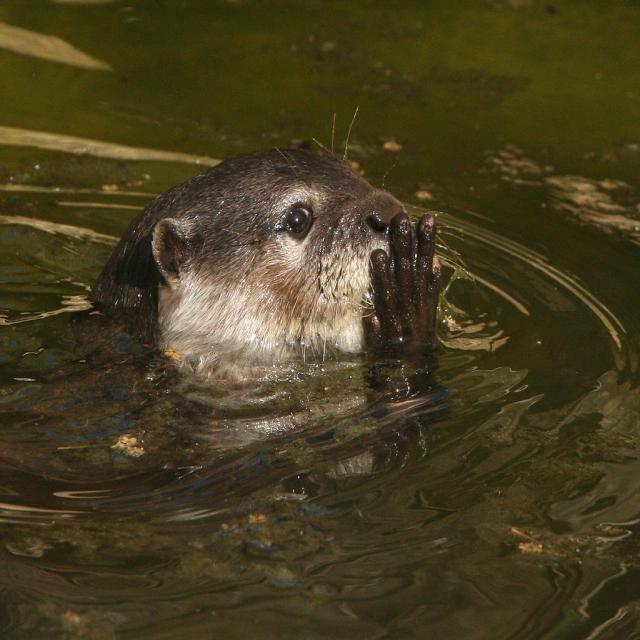otter: (103, 146, 452, 359)
